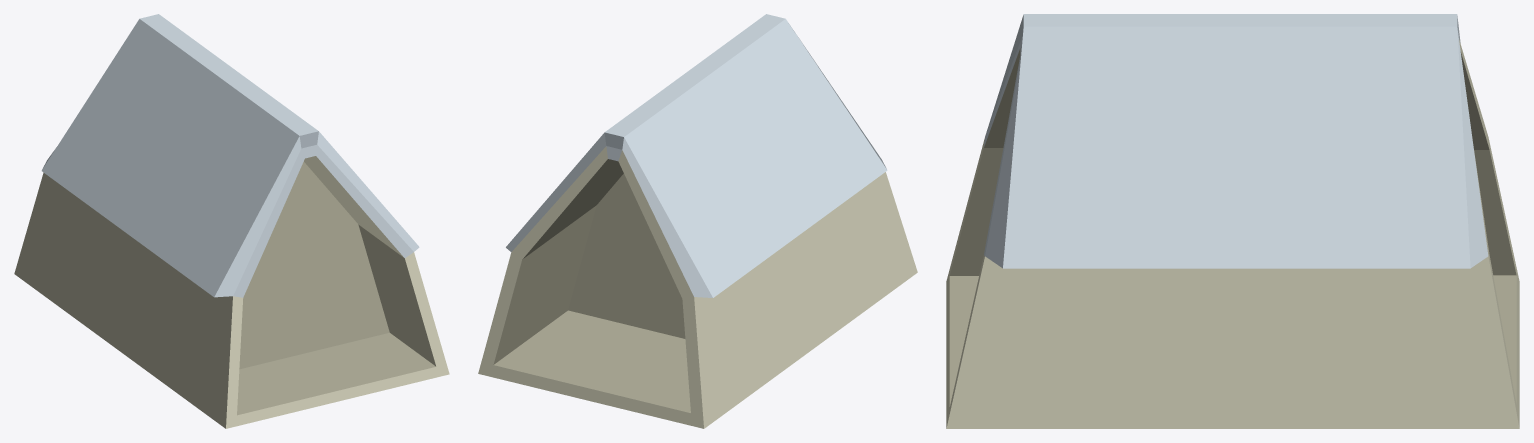
The model's file is Tent.fbx.
The picture shows the model from 3 angles, left to right: view 1: azimuth 30°, elevation 25°; view 2: azimuth 150°, elevation 25°; view 3: azimuth 270°, elevation 25°; orthographic projection. The views are drawn at different scales.
Parts seen in each view (by area): view 1: Tent; view 2: Tent; view 3: Tent.
Part boxes in pixels (x1,y1,x2,y2): Tent: (14,14,449,428); Tent: (478,14,917,428); Tent: (946,14,1519,428).
Size of the model in its own units: 4.45 by 4.7 by 7.29.
